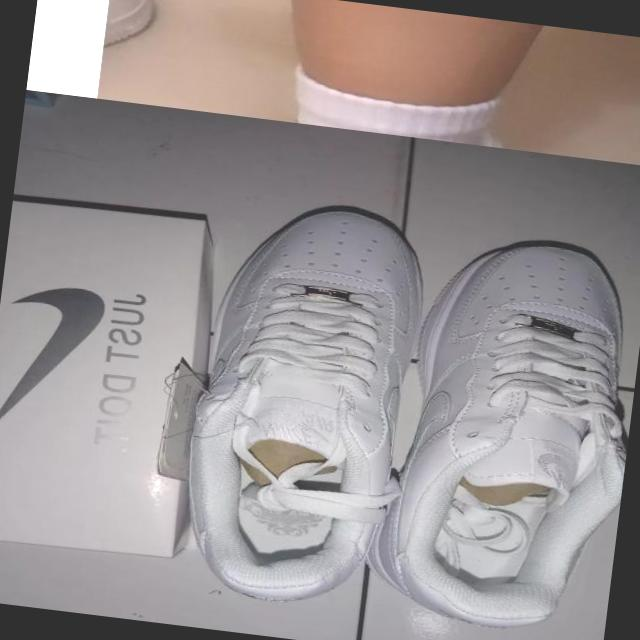nike_fake_airforce: (170, 189, 448, 621), (357, 219, 640, 640)
